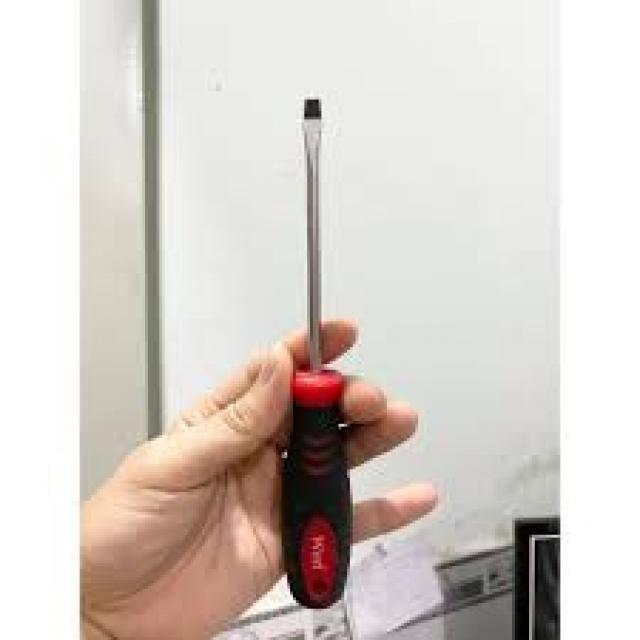screwdriver: (270, 92, 361, 616)
